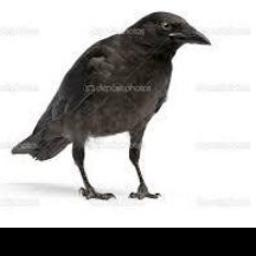Crow: (11, 11, 211, 200)
